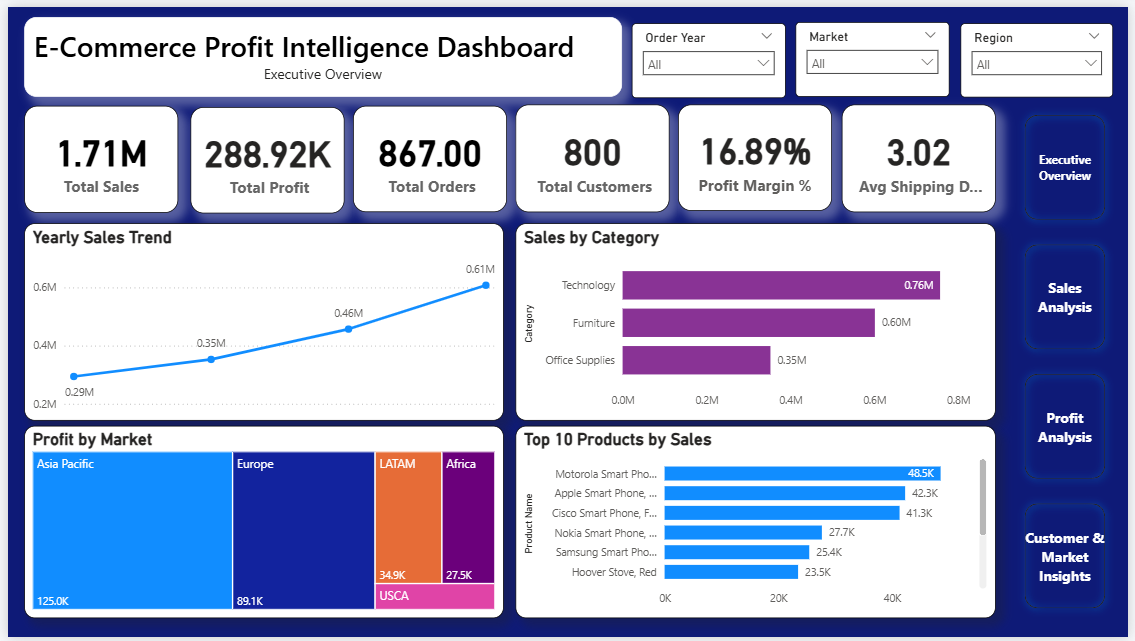

This screenshot's page, from the dashboard's own definition file:
{"tool":"powerbi","page":{"name":"Executive Overview","canvas":[1280,720],"ordinal":0},"visuals":[{"type":"textbox","box":[18.6,11.4,682.9,91.4],"z":0},{"type":"card","fields":{"Values":["Measures (2).Total Sales"]},"box":[19.2,112.5,175.6,122],"z":1000},{"type":"slicer","fields":{"Values":["Global_Superstore_cleaned.Order Year"]},"box":[712.9,18.6,175.7,85.7],"z":2000},{"type":"slicer","fields":{"Values":["Global_Superstore_cleaned.Market"]},"box":[900,17.1,175.7,85.7],"z":3000},{"type":"slicer","fields":{"Values":["Global_Superstore_cleaned.Region"]},"box":[1088.6,18.6,174.3,85],"z":4000},{"type":"card","fields":{"Values":["Measures (2).Total Profit"]},"box":[208.6,114.3,175.7,121.4],"z":5000},{"type":"card","fields":{"Values":["Measures (2).Total Customers"]},"box":[580,111.4,175.7,122.9],"z":6000},{"type":"card","fields":{"Values":["Measures (2).Total Orders"]},"box":[394.3,112.9,175.7,121.4],"z":7000},{"type":"card","fields":{"Values":["Measures (2).Profit Margin %"]},"box":[765.7,111.4,175.7,121.4],"z":8000},{"type":"card","fields":{"Values":["Measures (2).Avg Shipping Days"]},"box":[952.9,111.4,175.7,122.9],"z":9000},{"type":"lineChart","title":"Yearly Sales Trend","fields":{"Y":["Sum(Global_Superstore_cleaned.Sales)"],"Category":["Global_Superstore_cleaned.Order Year"]},"box":[18.6,247.1,548,225.7],"z":10000},{"type":"clusteredBarChart","title":"Sales by Category","fields":{"Category":["Global_Superstore_cleaned.Category"],"Y":["Sum(Global_Superstore_cleaned.Sales)"]},"box":[580,247.1,548.6,225.7],"z":11000},{"type":"treemap","title":"Profit by Market","fields":{"Values":["Sum(Global_Superstore_cleaned.Profit)"],"Group":["Global_Superstore_cleaned.Market"]},"box":[18.6,478.6,548,220],"z":12000},{"type":"clusteredBarChart","title":"Top 10 Products by Sales","fields":{"Category":["Global_Superstore_cleaned.Product Name"],"Y":["Sum(Global_Superstore_cleaned.Sales)"]},"box":[580,478.6,548.6,220],"z":13000},{"type":"pageNavigator","box":[1162.9,114.3,100,584.3],"z":14000}]}

Visuals, with their boxes in screenshot pixels (x1, y1, x2, y2), scaled from the page's 1280x720 canvas onto the 1135x641 screenshot:
textbox: <box>16,10,622,92</box>
card - Measures (2).Total Sales: <box>17,100,173,209</box>
slicer - Global_Superstore_cleaned.Order Year: <box>632,17,788,93</box>
slicer - Global_Superstore_cleaned.Market: <box>798,15,954,92</box>
slicer - Global_Superstore_cleaned.Region: <box>965,17,1120,92</box>
card - Measures (2).Total Profit: <box>185,102,341,210</box>
card - Measures (2).Total Customers: <box>514,99,670,209</box>
card - Measures (2).Total Orders: <box>350,101,505,209</box>
card - Measures (2).Profit Margin %: <box>679,99,835,207</box>
card - Measures (2).Avg Shipping Days: <box>845,99,1001,209</box>
"Yearly Sales Trend" lineChart: <box>16,220,502,421</box>
"Sales by Category" clusteredBarChart: <box>514,220,1001,421</box>
"Profit by Market" treemap: <box>16,426,502,622</box>
"Top 10 Products by Sales" clusteredBarChart: <box>514,426,1001,622</box>
pageNavigator: <box>1031,102,1120,622</box>
